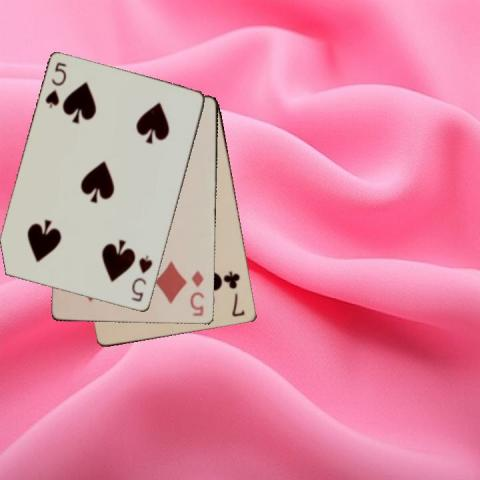5d: (187, 267, 206, 318)
5s: (42, 59, 68, 110), (129, 253, 154, 303)
7c: (223, 268, 246, 319)
